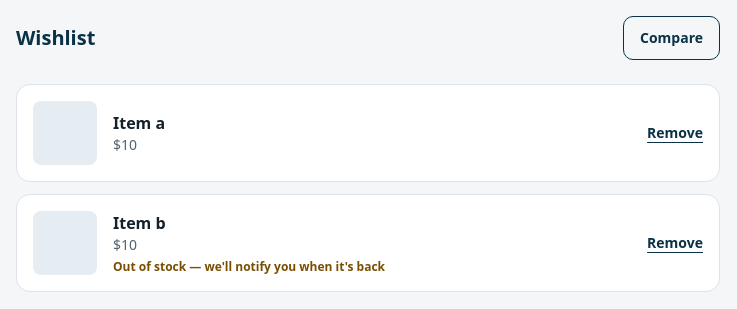
Test case: wishlist › lists saved parts with their price, says the buyer will be told when an out-of-stock one is back, and removes one
Expected: the text "Item a" is shown, [113,112,165,134]
Expected: the text "Out of stock — we'll notify you when it's back" is shown, [113,258,385,275]
Click the button "Remove" in the row of "Item a" at point(675, 133), box [647,123,703,143]
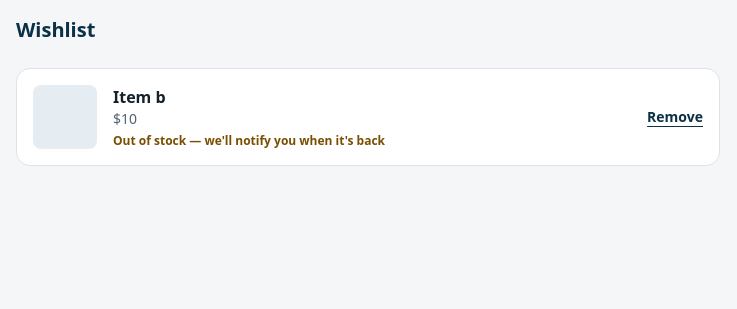
Expected: the link "Item a" is gone
